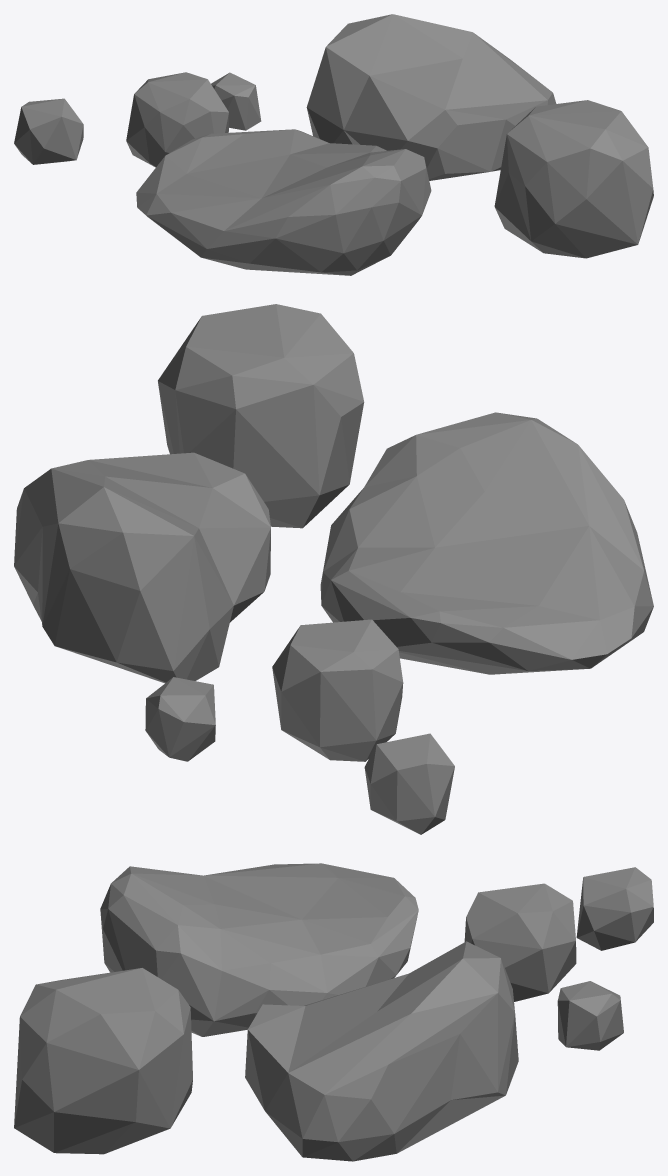
File: Pebbles_1.glb
The picture shows the model from 3 angles, top to bottom: view 1: azimuth 30°, elevation 25°; view 2: azimuth 150°, elevation 25°; view 3: azimuth 270°, elevation 25°; orthographic projection. The views are drawn at different scales.
Parts seen in each view (by area): view 1: Pebbles_1; view 2: Pebbles_1; view 3: Pebbles_1.
Boxes of the visible parts, <box> form: Pebbles_1: <box>14,14,653,275</box>; Pebbles_1: <box>14,304,653,834</box>; Pebbles_1: <box>14,863,653,1161</box>.
Size of the model in its own units: 1.29 by 0.3846 by 1.4.
1 material, 1 textured.
